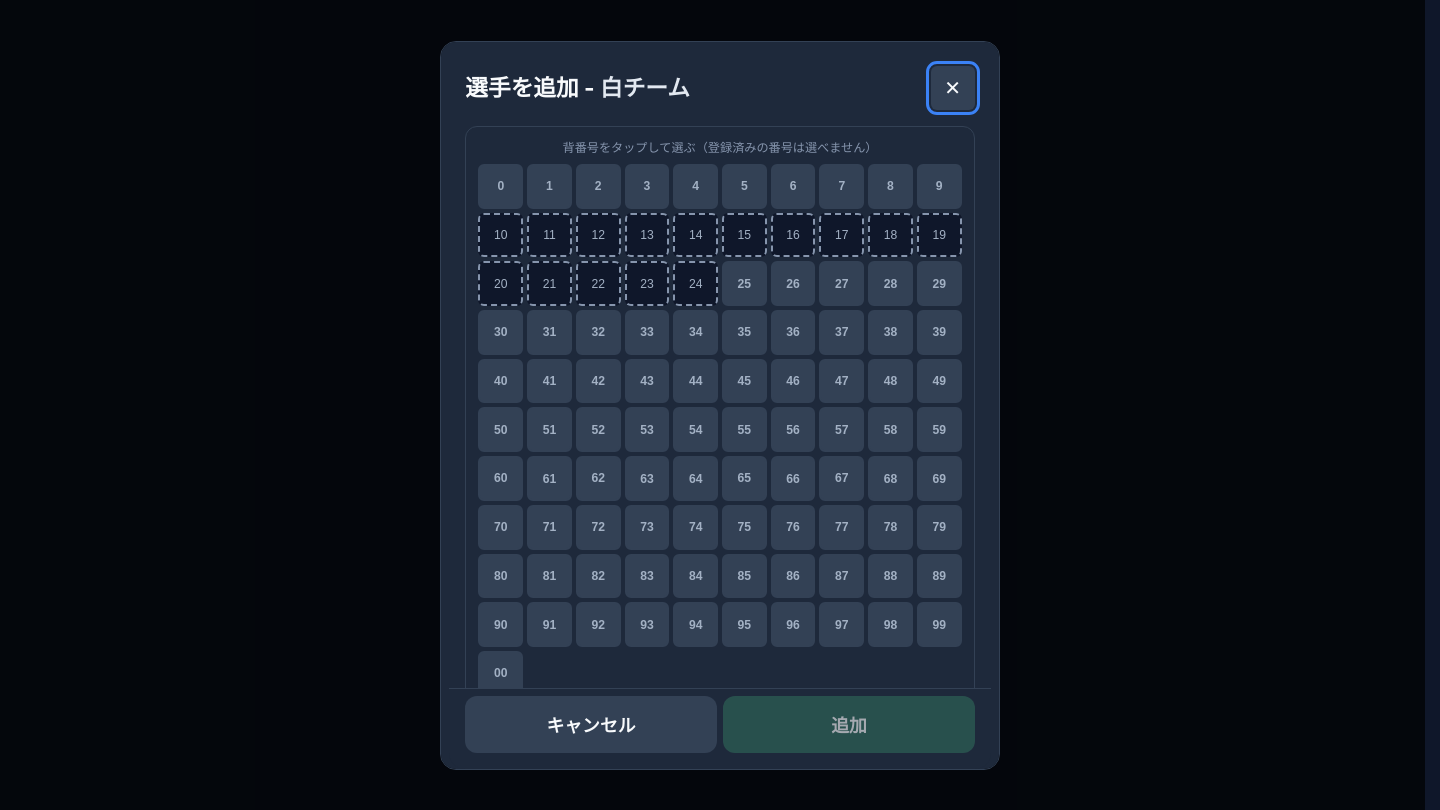
it: AddPlayersPanel: 15人あふれの案内 › 若い番号を足すと、押し出される既存選手を名指しで出す
This screenshot has width=1440, height=810.
Click the button named "背番号4": (696, 186) left=673, top=164, right=718, bottom=208
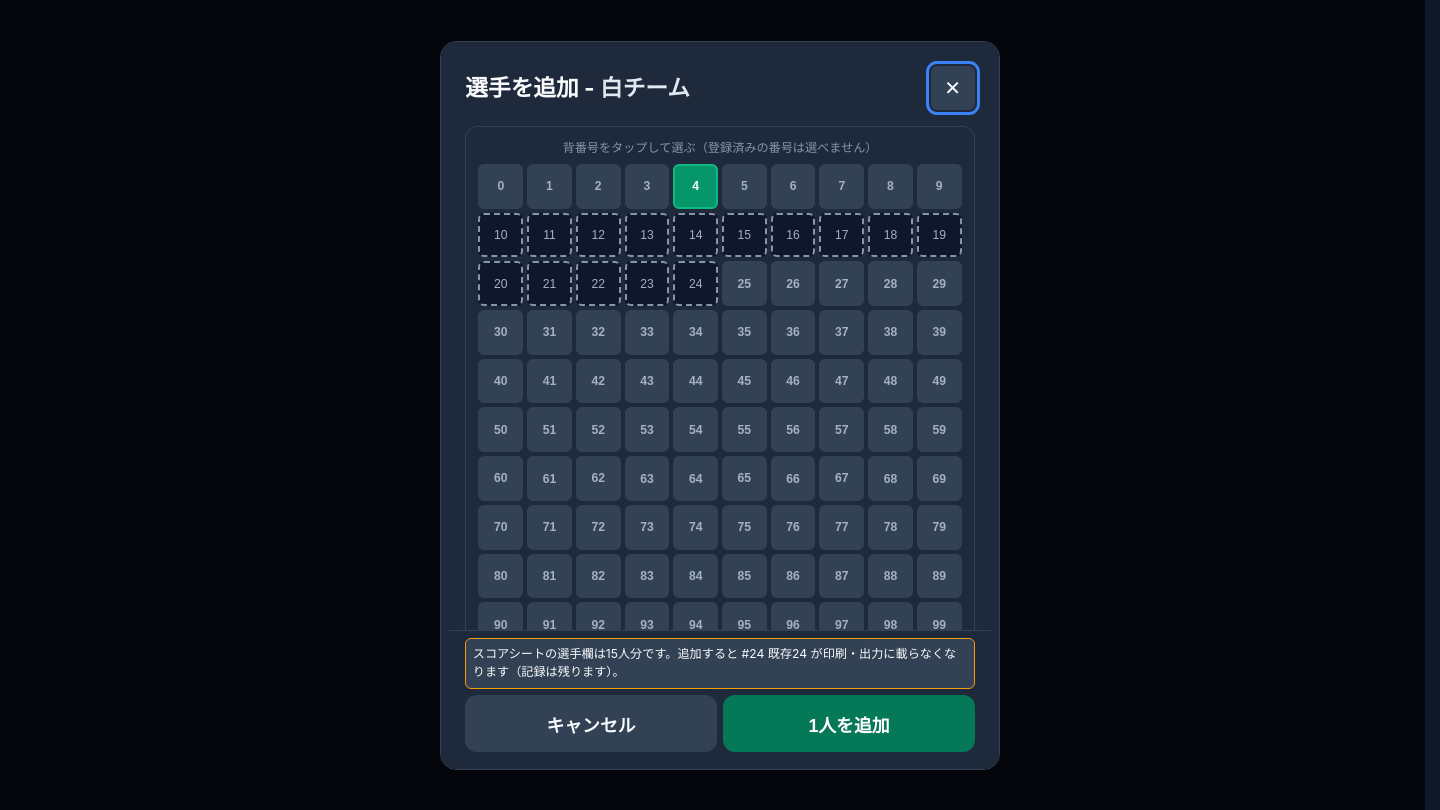
expect the message shows "#24 既存24": met, box left=473, top=646, right=956, bottom=679
expect the message shows "印刷・出力に載らなくなります": met, box left=473, top=646, right=956, bottom=679
